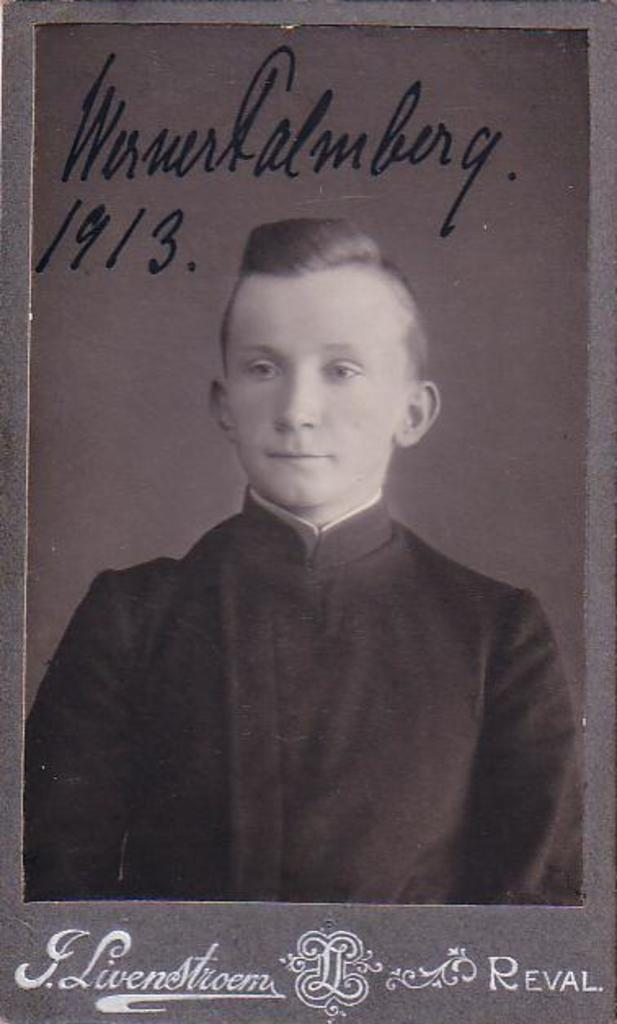Person: (20, 209, 586, 903)
